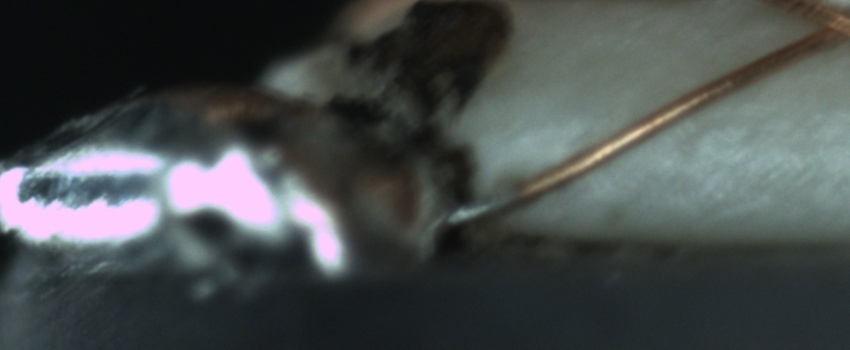CL: (791, 4, 850, 54)
TS: (435, 191, 513, 233)
